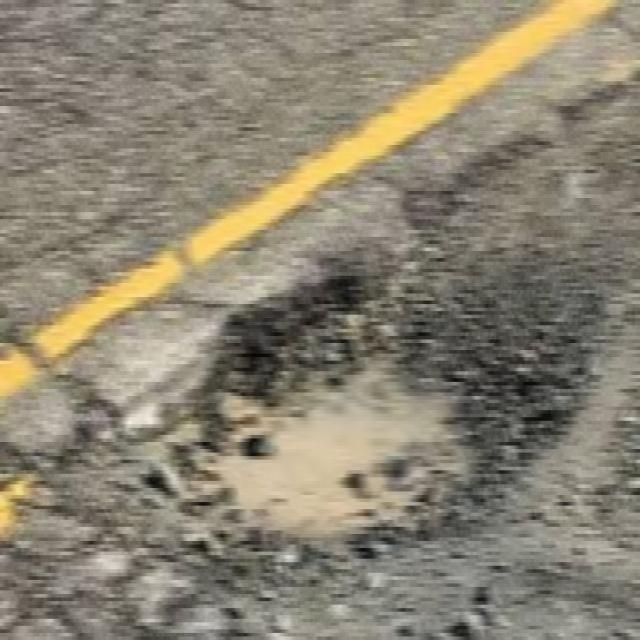Pothole: (157, 262, 587, 574)
